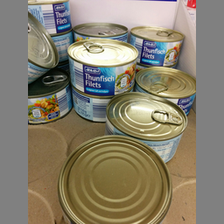fish: (59, 132, 171, 224), (105, 91, 186, 165), (67, 39, 137, 95), (135, 63, 195, 113), (131, 25, 187, 67), (27, 71, 70, 124), (28, 1, 71, 35), (71, 87, 108, 124)
